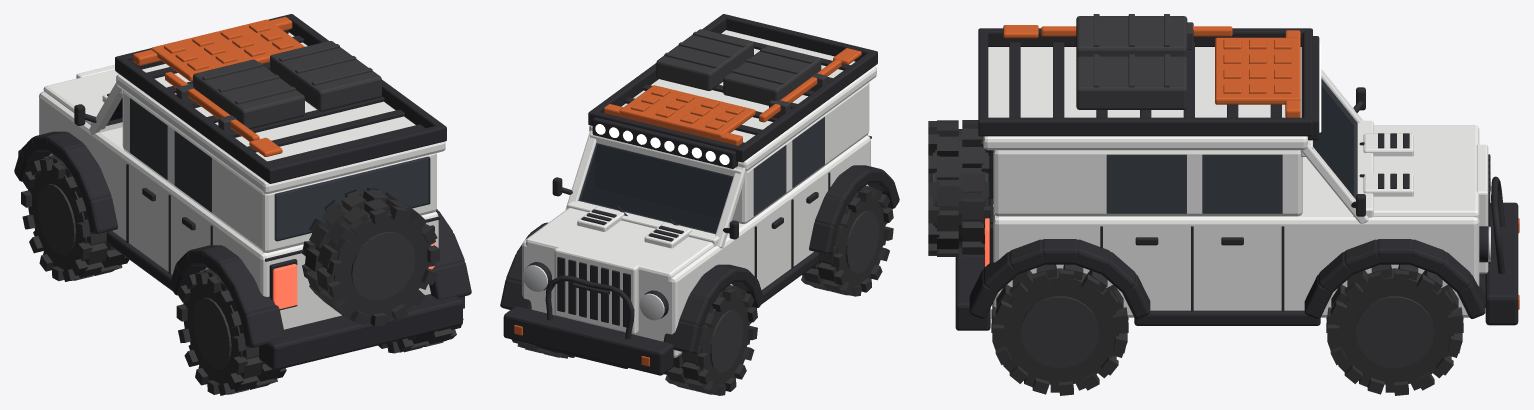
File: scx30.glb
3 renders of one model, left to right at view 1: azimuth 30°, elevation 25°; view 2: azimuth 150°, elevation 25°; view 3: azimuth 270°, elevation 25°, orthographic. The views are drawn at different scales.
Parts seen in each view (by area): view 1: BodyTub, Spare_Tyre, Hardtop, Greenhouse, RearBumper, RearGlass, WheelFL_Tyre, WheelRL_Tyre, RoofCase1, RoofCase0, Spare_Rim, RackEnd-97 (+28 smaller); view 2: BodyTub, Windscreen, Hood, FrontBumper, WheelFL_Tyre, WheelRL_Tyre, Greenhouse, Hardtop, RoofCase1, RoofCase0, Grille, TractionBoard (+37 smaller); view 3: BodyTub, Hardtop, Greenhouse, WheelRR_Tyre, WheelFR_Tyre, Hood, Spare_Tyre, RackRail1, RoofCase1, SideGlass1-10, SideGlass1-48, WheelFR_Rim (+35 smaller).
Boxes of the visible parts, box(x1,y1,x2,y2) form: BodyTub: box(39, 91, 438, 329); Spare_Tyre: box(302, 189, 439, 326); Hardtop: box(116, 32, 445, 193); Greenhouse: box(122, 90, 436, 252); RearBumper: box(259, 294, 462, 370); RearGlass: box(274, 156, 430, 241); WheelFL_Tyre: box(21, 155, 129, 281); WheelRL_Tyre: box(176, 269, 286, 395); RoofCase1: box(270, 41, 381, 111); RoofCase0: box(193, 59, 304, 129); Spare_Rim: box(351, 232, 415, 300); RackEnd-97: box(266, 124, 446, 183); BodyTub: box(522, 135, 870, 357); Windscreen: box(578, 143, 733, 234); Hood: box(526, 208, 714, 281); FrontBumper: box(503, 306, 673, 375); WheelFL_Tyre: box(664, 285, 757, 395); WheelRL_Tyre: box(801, 185, 893, 296); Greenhouse: box(732, 82, 869, 223); Hardtop: box(589, 30, 876, 170); RoofCase1: box(656, 29, 753, 90); RoofCase0: box(723, 45, 821, 105); Grille: box(554, 246, 638, 334); TractionBoard: box(619, 85, 755, 137); BodyTub: box(993, 157, 1479, 317); Hardtop: box(983, 47, 1307, 150); Greenhouse: box(993, 150, 1302, 216); WheelRR_Tyre: box(991, 264, 1128, 395); WheelFR_Tyre: box(1326, 264, 1463, 395); Hood: box(1373, 125, 1479, 219); Spare_Tyre: box(928, 120, 990, 256); RackRail1: box(985, 117, 1305, 136); RoofCase1: box(1076, 56, 1187, 109); SideGlass1-10: box(1202, 154, 1282, 213); SideGlass1-48: box(1106, 154, 1186, 213); WheelFR_Rim: box(1355, 296, 1434, 367).
Size of the model in its own units: 0.1116 by 0.1262 by 0.2348.
